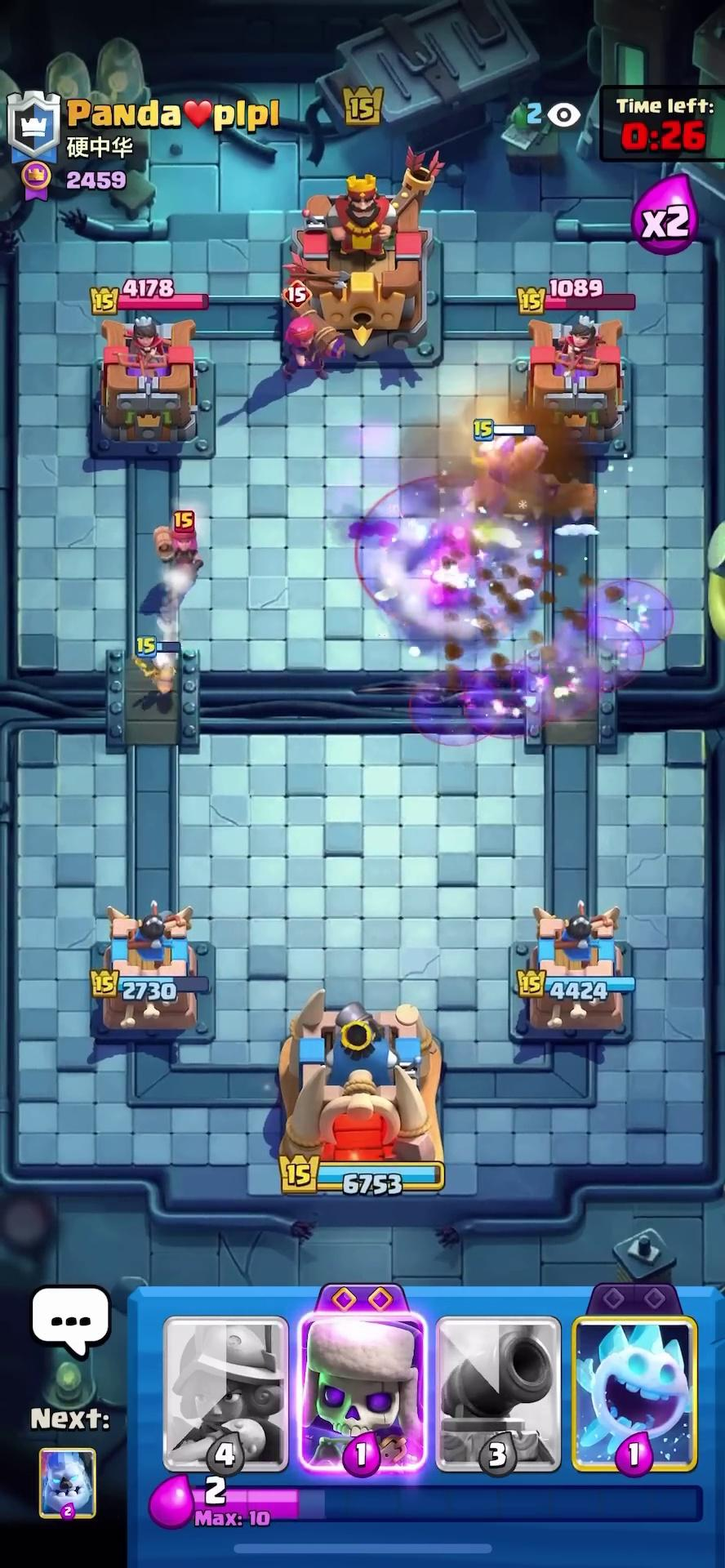hog_rider: (461, 421, 547, 514)
log: (459, 480, 616, 531)
skeletons: (122, 633, 194, 696)
